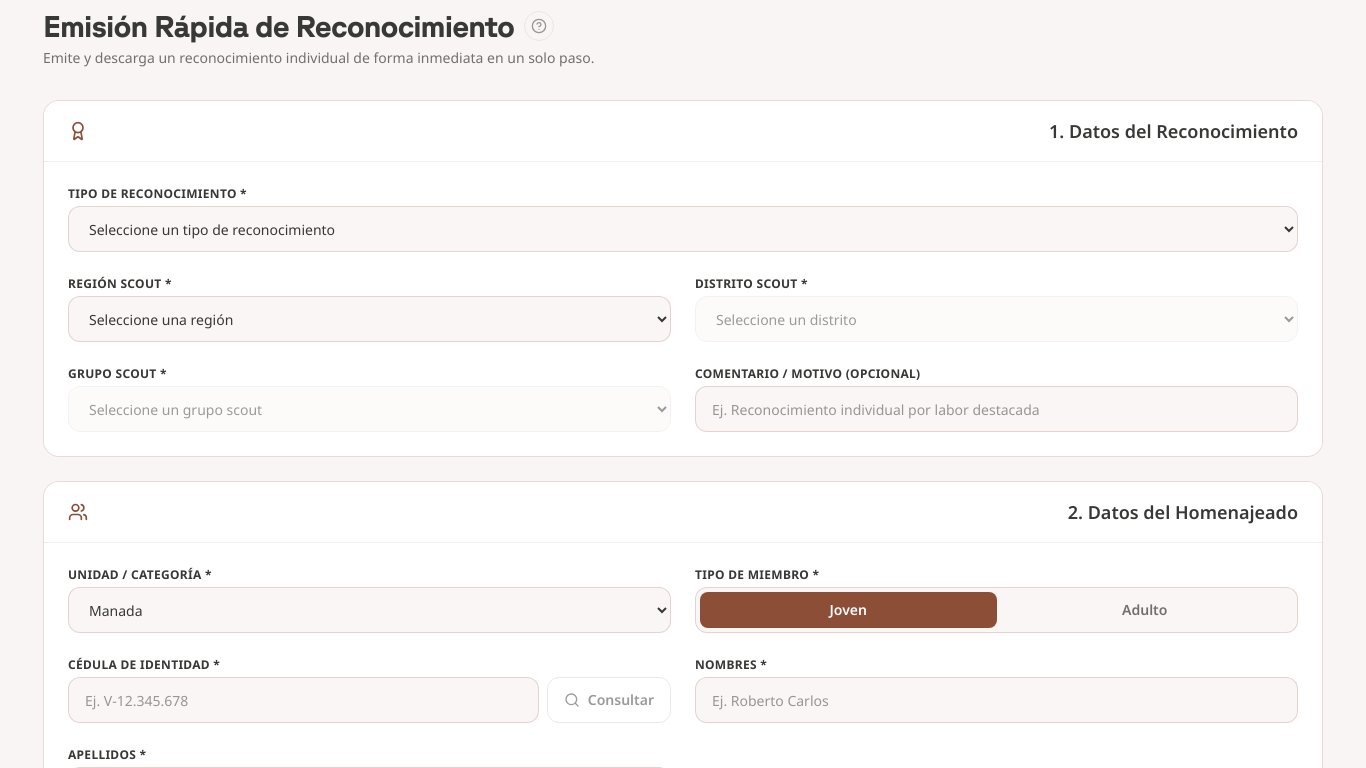
Test case: QuickRecognition Component › cascades "No aplica" region to disable district and group and set their values to "No aplica"
The width and height of the screenshot is (1366, 768).
Note: Select "No aplica" (value "0")
Select "No aplica" in the dropdown labelled "Región Scout *": (370, 319) [68,296,671,342]
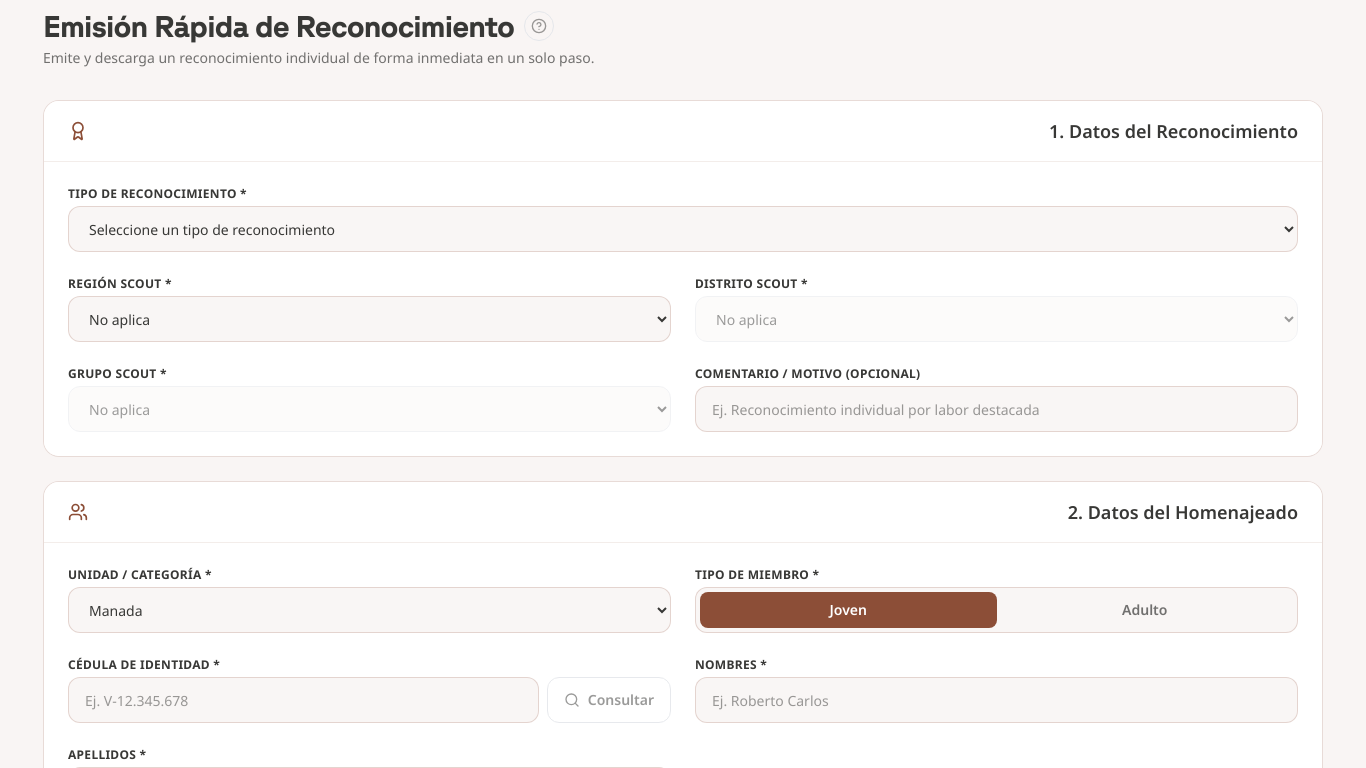
Expected: the dropdown labelled "Distrito Scout *" is disabled, [695,296,1298,342]
Expected: the dropdown labelled "Distrito Scout *" shows "No aplica", [695,296,1298,342]
Expected: the dropdown labelled "Grupo Scout *" shows "No aplica", [68,386,671,432]
